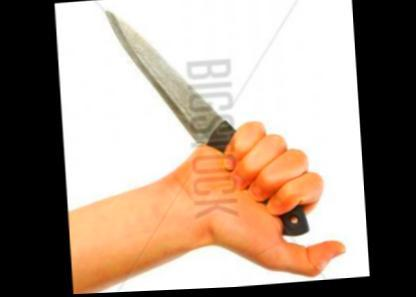knife: (101, 0, 295, 216)
